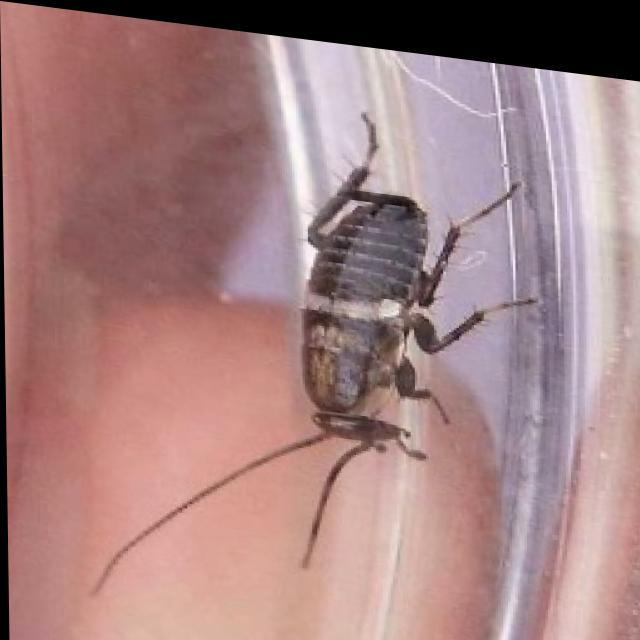cockroach: (88, 107, 542, 597)
